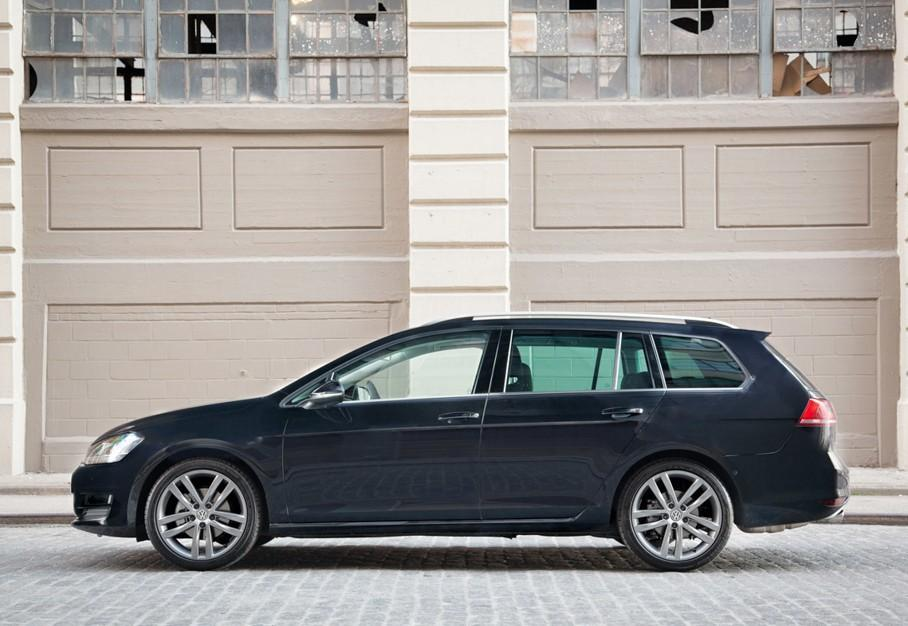Wagon: (72, 313, 850, 571)
